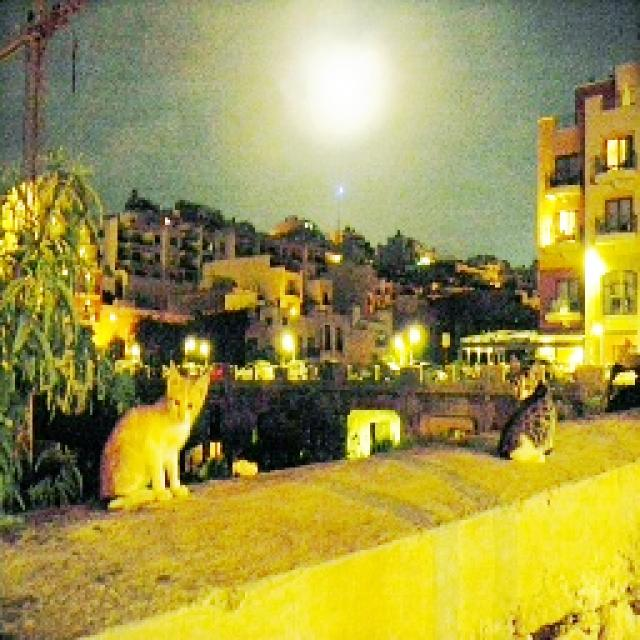cat: (81, 332, 232, 522), (482, 340, 579, 490)
